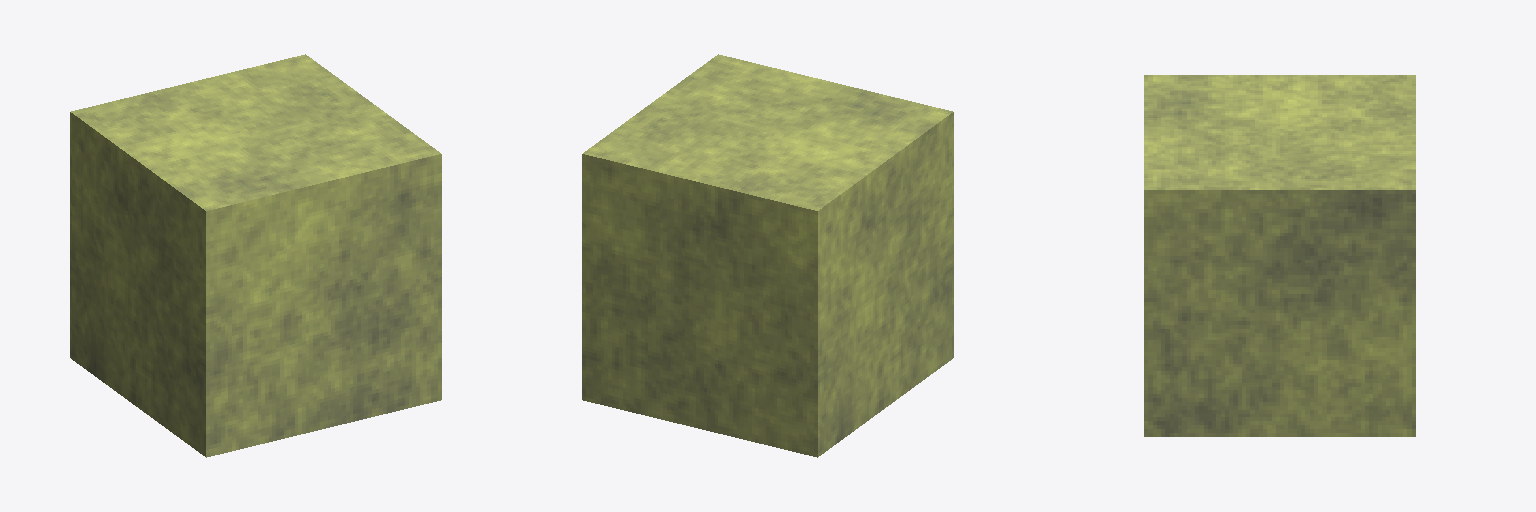
3 renders of one model, left to right at view 1: azimuth 30°, elevation 25°; view 2: azimuth 150°, elevation 25°; view 3: azimuth 270°, elevation 25°, orthographic.
Parts seen in each view (by area): view 1: Cube; view 2: Cube; view 3: Cube.
Boxes of the visible parts, <box> form: Cube: <box>70,54,441,457</box>; Cube: <box>582,54,953,457</box>; Cube: <box>1144,75,1415,436</box>.
Size of the model in its own units: 2 by 2 by 2.
1 materials, 1 textured.